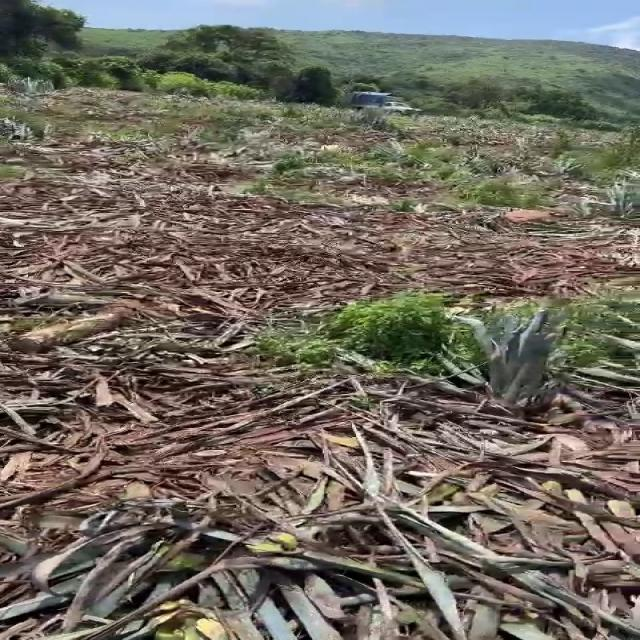agave: (434, 301, 589, 433)
